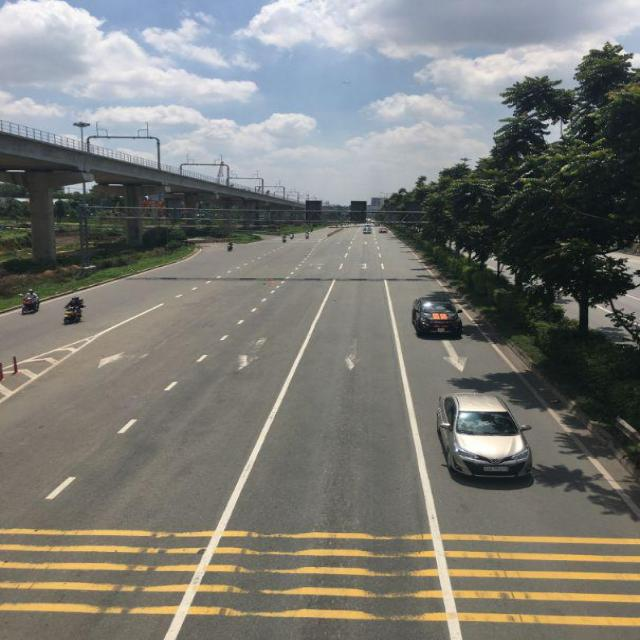car: (437, 394, 535, 482), (413, 295, 462, 339)
motorcycle: (62, 296, 84, 324), (22, 293, 40, 315)
